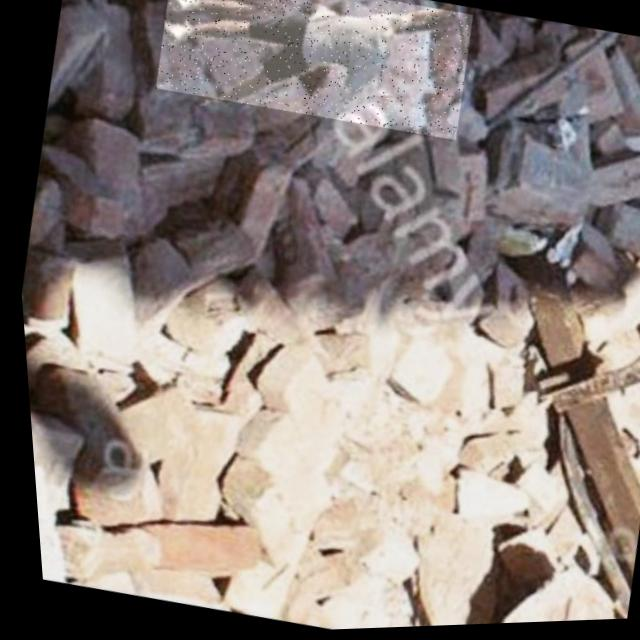Person in Rubble: (147, 0, 478, 152)
